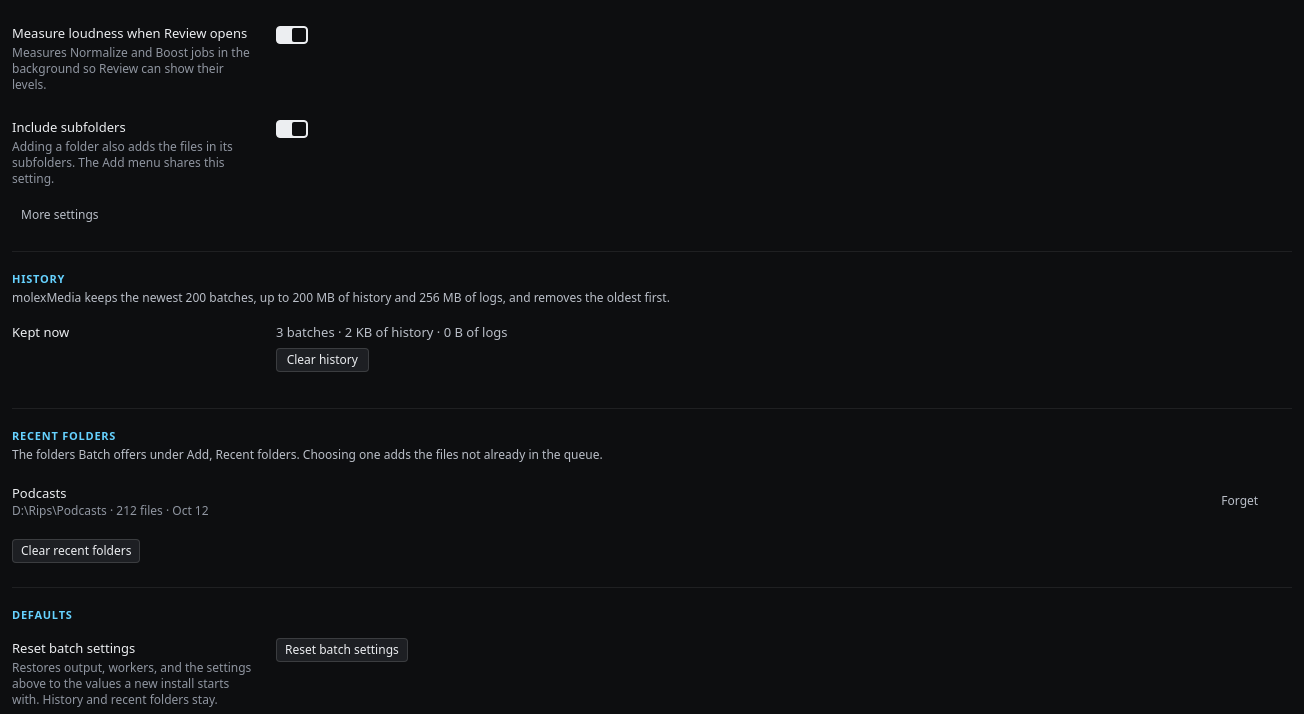
Test case: BatchSettings › keeps history when the confirmation is declined and reports a refused clear
(page scrolled)
Expected: the text "3 batches · 2 KB of history · 0 B of logs" is shown, [276, 323, 508, 341]
Click the button "Clear history" at x=322, y=360, box [276, 348, 368, 372]
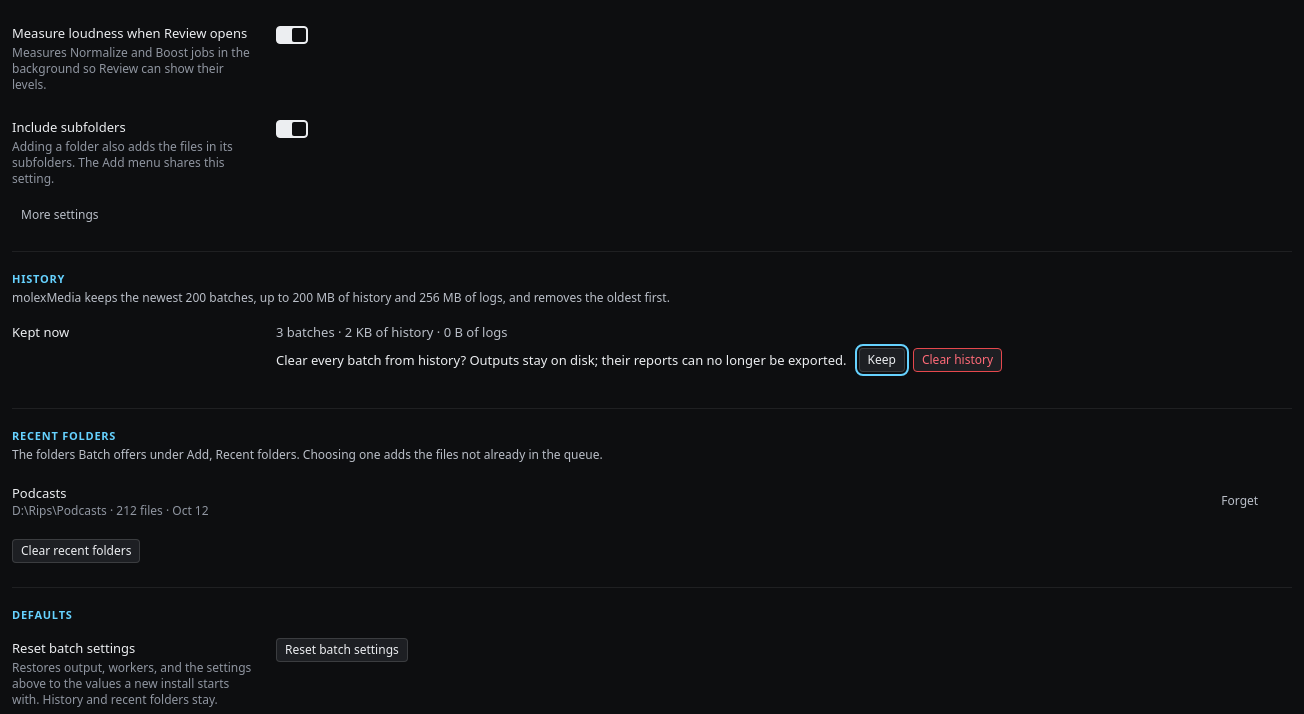
Click the button "Keep" at x=882, y=360, box [859, 348, 905, 372]
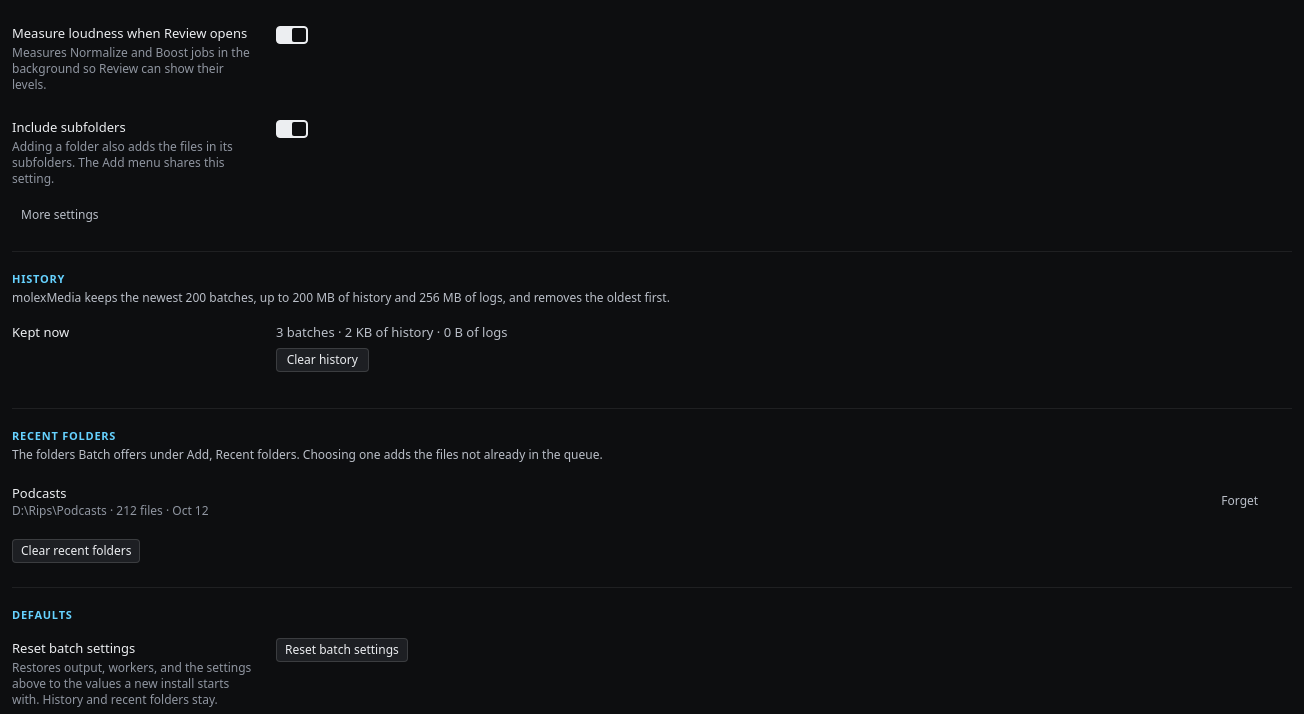
Click the button "Clear history" at x=322, y=360, box [276, 348, 368, 372]
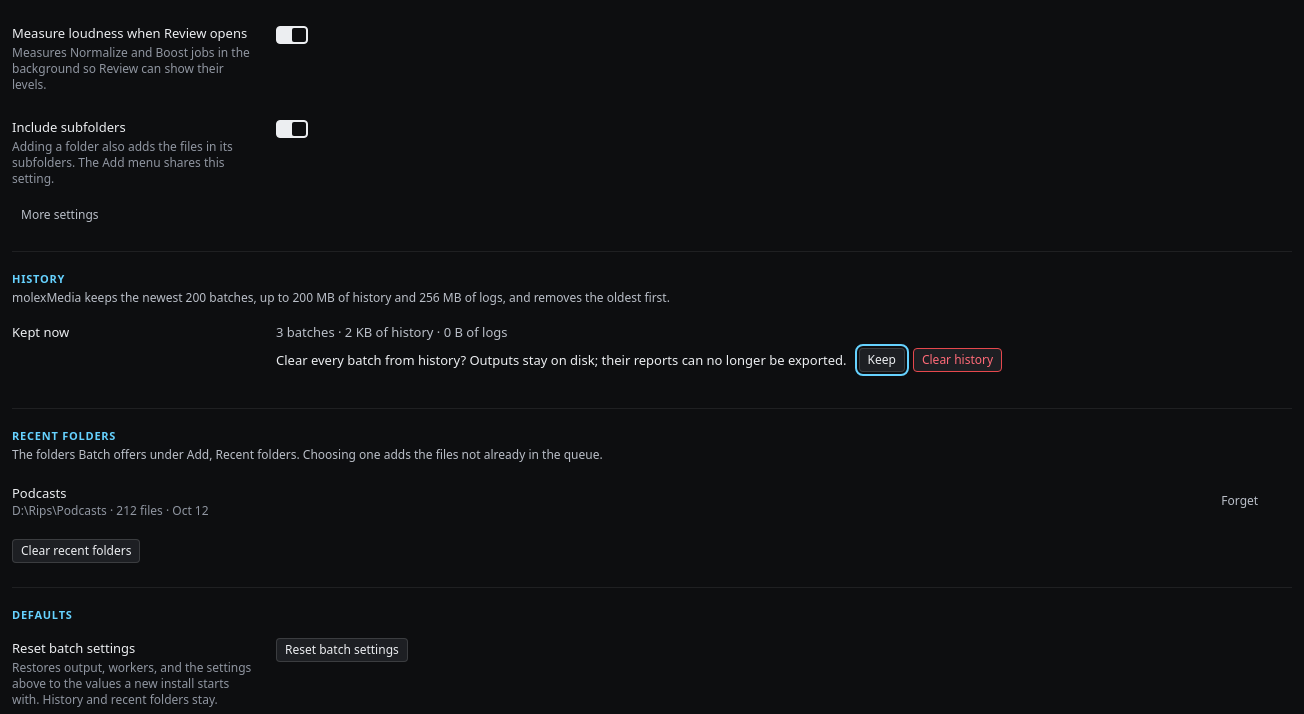
Click the button "Clear history" at x=958, y=360, box [913, 348, 1002, 372]
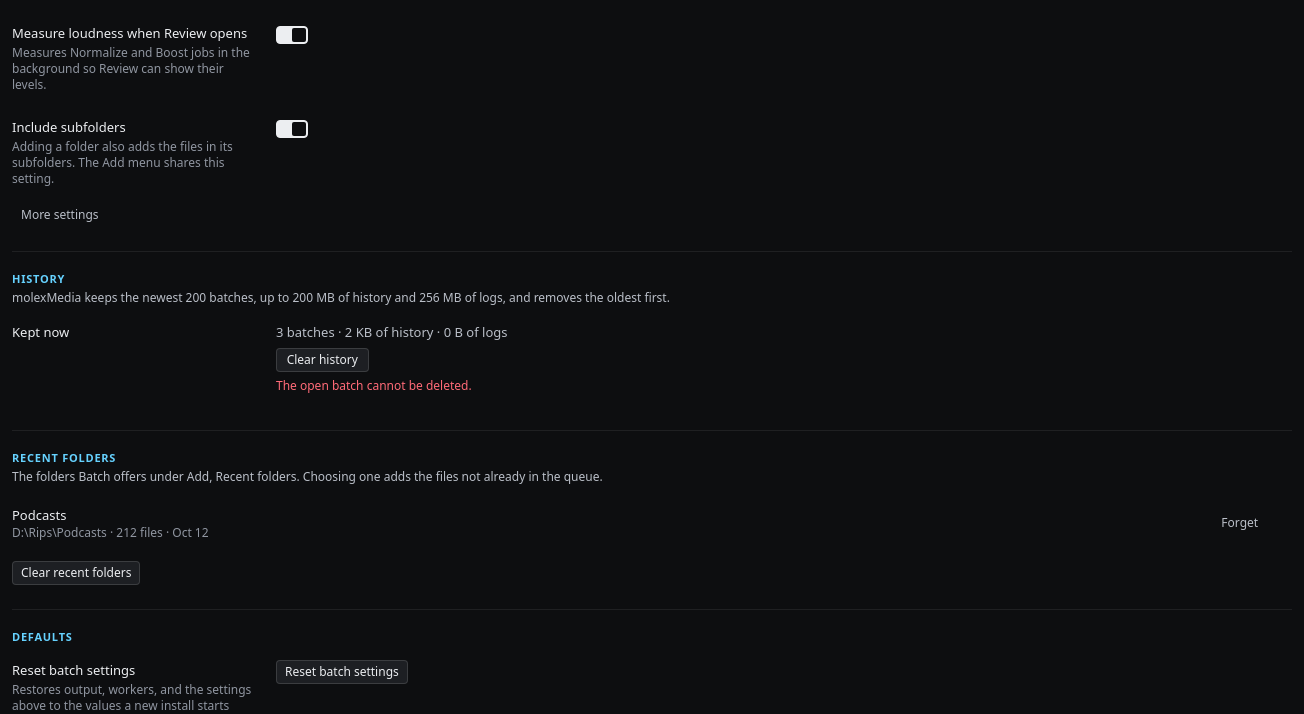
Result: the message reads "The open batch cannot be deleted." at [276, 377, 472, 394]
